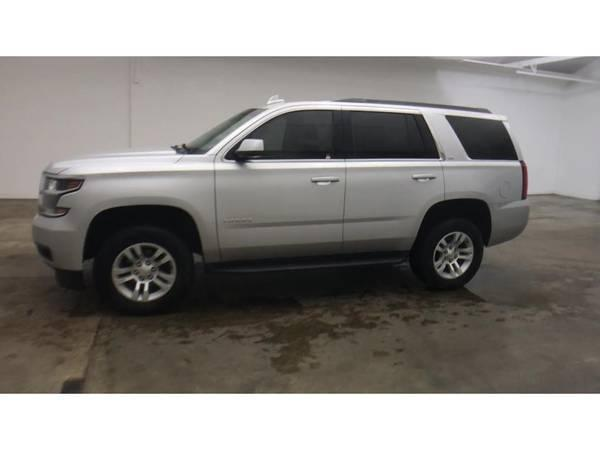Front_Bumper: (34, 209, 95, 271)
Front_Fender: (49, 150, 220, 263)
Front_Left_Door: (214, 159, 344, 257)
Front_Left_Window: (223, 106, 344, 158)
Left_Headlight: (39, 170, 85, 217)
Rear_Bumper: (489, 199, 530, 249)
Rear_Fender: (426, 115, 528, 207)
Rear_Left_Door: (343, 158, 446, 252)
Rear_Left_Window: (343, 107, 441, 157)
Roof: (203, 97, 503, 158)
Wheel: (95, 221, 198, 313), (416, 208, 487, 286)
